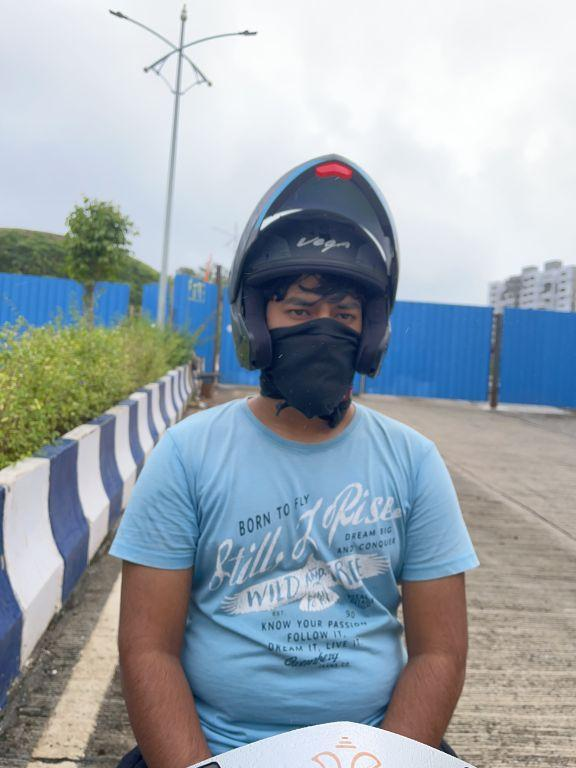helmet: (215, 135, 404, 413)
